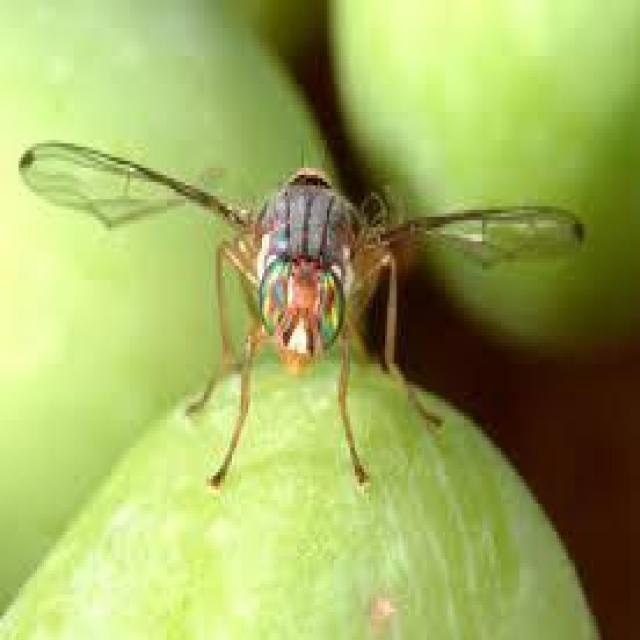Anthracnose: (19, 140, 582, 511)
